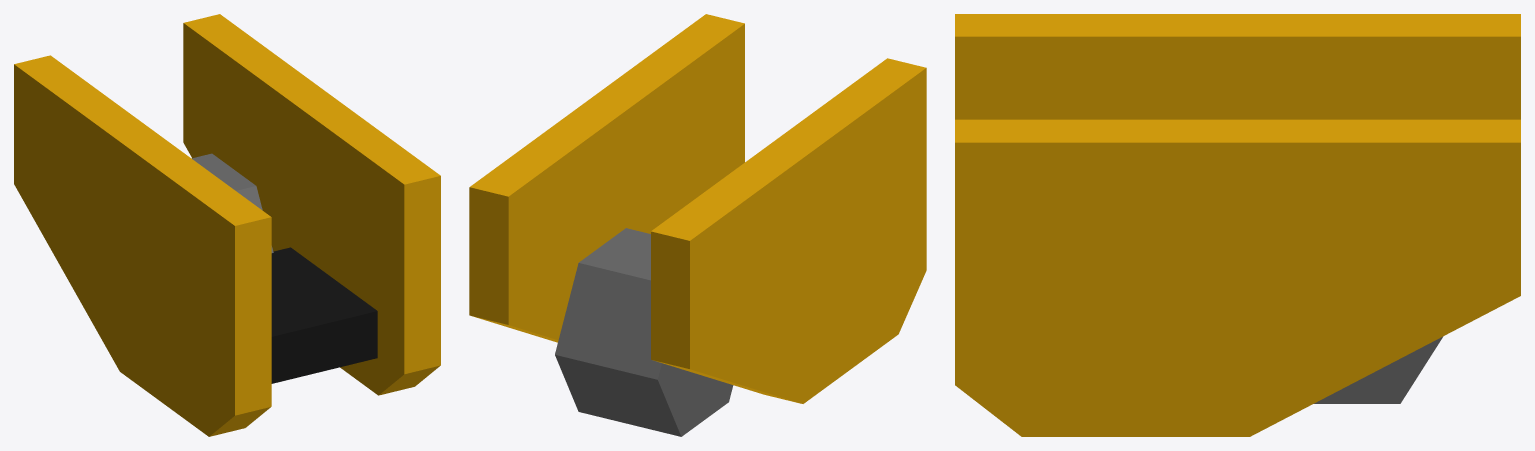
File: crane_Base.glb
3 views of the same model, side by side, from view 1: azimuth 30°, elevation 25°; view 2: azimuth 150°, elevation 25°; view 3: azimuth 270°, elevation 25° (orthographic). The views are drawn at different scales.
Visible parts, largest first — view 1: Cube.102; view 2: Cube.102; view 3: Cube.102.
Part boxes in pixels (box(x1,y1,x2,y2)): Cube.102: box(14, 14, 440, 436); Cube.102: box(469, 14, 926, 436); Cube.102: box(955, 14, 1520, 436).
Size of the model in its own units: 0.6358 by 0.6814 by 1.18.
